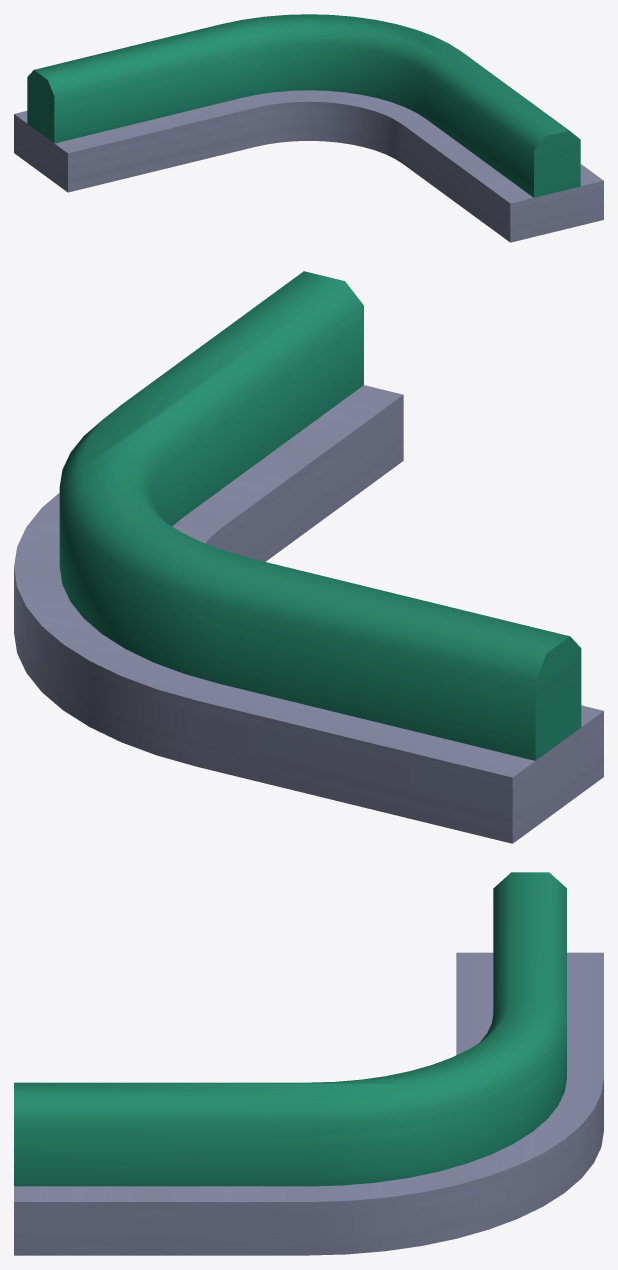
The model's file is hedgeCurved.fbx.
3 renders of one model, top to bottom at view 1: azimuth 30°, elevation 25°; view 2: azimuth 150°, elevation 25°; view 3: azimuth 270°, elevation 25°, orthographic. The views are drawn at different scales.
Parts seen in each view (by area): view 1: hedgeCurved; view 2: hedgeCurved; view 3: hedgeCurved.
Part boxes in pixels (box(x1,y1,x2,y2)): hedgeCurved: box(14, 14, 603, 242); hedgeCurved: box(14, 271, 603, 843); hedgeCurved: box(14, 872, 603, 1255).
Size of the model in its own units: 1 by 1 by 0.25.
